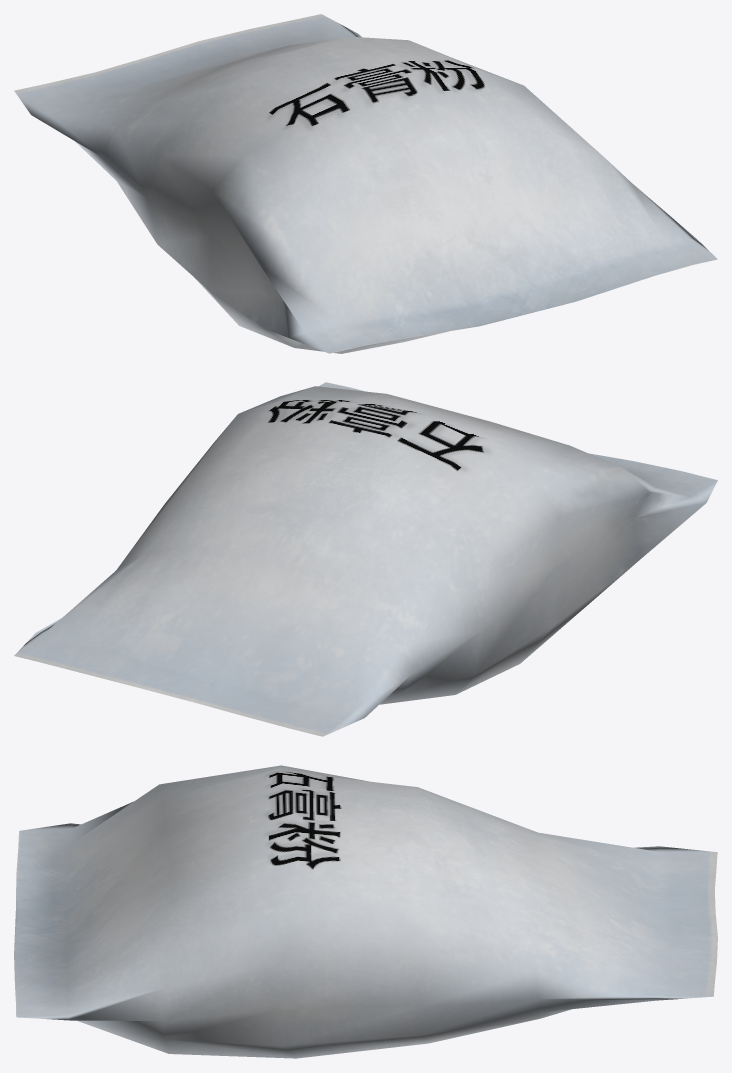
The model's file is ShiGaoFen.fbx.
The picture shows the model from 3 angles, top to bottom: view 1: azimuth 30°, elevation 25°; view 2: azimuth 150°, elevation 25°; view 3: azimuth 270°, elevation 25°; orthographic projection. The views are drawn at different scales.
Visible parts, largest first — view 1: ShiGaoFen; view 2: ShiGaoFen; view 3: ShiGaoFen.
Part boxes in pixels (left/top/right/bottom): ShiGaoFen: left=14, top=14, right=717, bottom=353; ShiGaoFen: left=14, top=382, right=717, bottom=736; ShiGaoFen: left=14, top=765, right=717, bottom=1058.
Size of the model in its own units: 19.58 by 9.78 by 29.53.
Materials: 1 (1 with a texture image).
